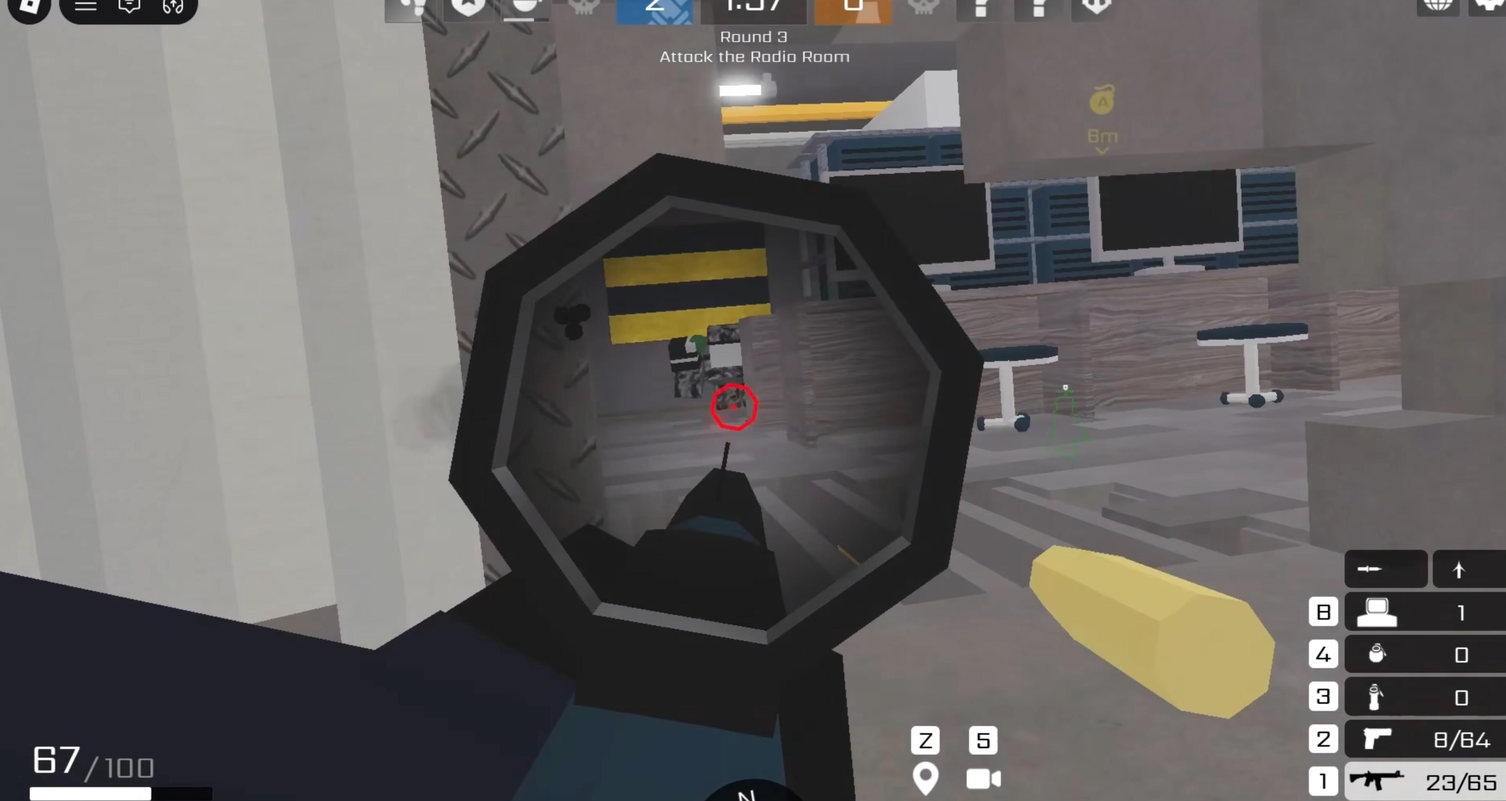enemy: (653, 307, 762, 422)
